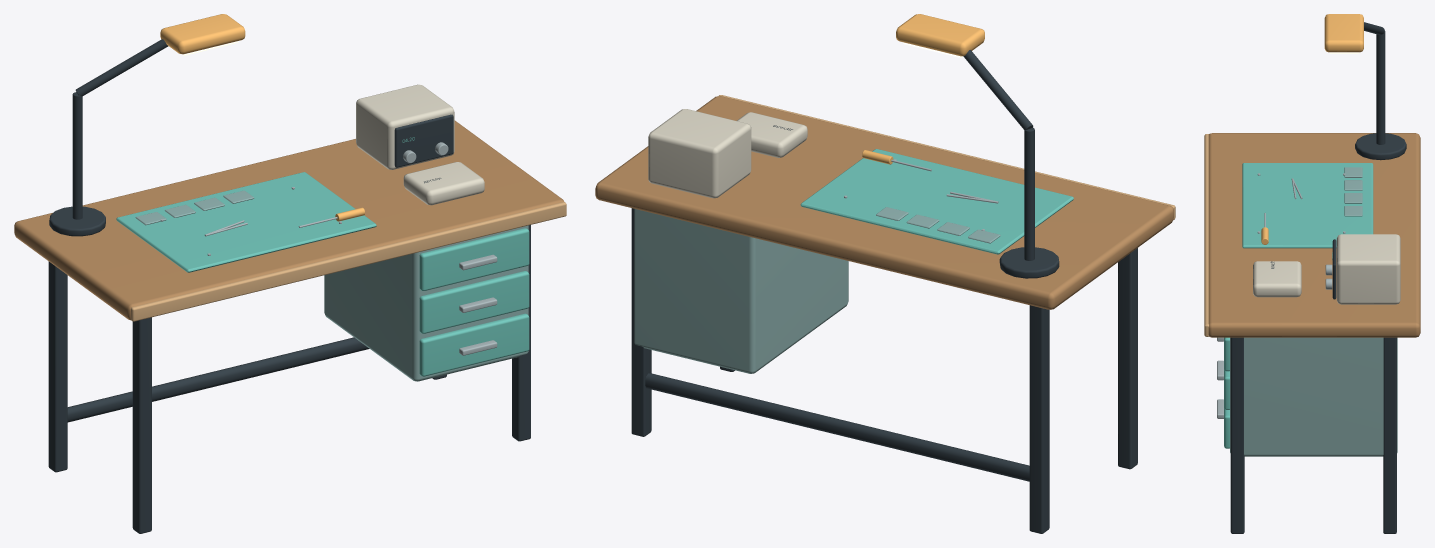
File: repair_workbench.glb
3 views of the same model, side by side, from view 1: azimuth 30°, elevation 25°; view 2: azimuth 150°, elevation 25°; view 3: azimuth 270°, elevation 25° (orthographic). The views are drawn at different scales.
Parts seen in each view (by area): view 1: Worktop, Silicone_repair_mat, Drawer_cabinet, Front_edge, Power_supply, Rear_crossbar, Steel_leg, Steel_leg.001, Drawer_front, Drawer_front.001, Drawer_front.002, Parts_box (+6 smaller); view 2: Worktop, Drawer_cabinet, Silicone_repair_mat, Power_supply, Rear_crossbar, Steel_leg.001, Steel_leg, Lamp_head, Steel_leg.003, Parts_box, Lamp_stem, Lamp_base (+2 smaller); view 3: Worktop, Drawer_cabinet, Silicone_repair_mat, Power_supply, Steel_leg.002, Steel_leg.003, Parts_box, Lamp_head, Lamp_stem, Lamp_base, Front_edge, Power_supply_face.
Boxes of the visible parts, x1,y1,x2,y2 form: Worktop: (14, 120, 564, 320); Silicone_repair_mat: (116, 172, 376, 272); Drawer_cabinet: (324, 225, 528, 381); Front_edge: (130, 202, 566, 321); Power_supply: (356, 84, 454, 169); Rear_crossbar: (67, 337, 369, 422); Steel_leg: (132, 317, 151, 533); Steel_leg.001: (48, 261, 67, 472); Drawer_front: (419, 313, 529, 376); Drawer_front.001: (419, 271, 529, 333); Drawer_front.002: (419, 228, 529, 290); Parts_box: (403, 162, 484, 205); Worktop: (595, 96, 1173, 309); Drawer_cabinet: (634, 209, 848, 373); Silicone_repair_mat: (800, 149, 1073, 254); Power_supply: (648, 109, 751, 198); Rear_crossbar: (645, 373, 1029, 481); Steel_leg.001: (1029, 305, 1049, 533); Steel_leg: (1118, 248, 1137, 469); Lamp_head: (896, 14, 984, 56); Steel_leg.003: (631, 208, 651, 436); Parts_box: (737, 112, 807, 157); Lamp_stem: (1024, 127, 1034, 260); Lamp_base: (999, 247, 1059, 278); Worktop: (1208, 133, 1420, 337); Drawer_cabinet: (1230, 337, 1397, 456); Silicone_repair_mat: (1242, 163, 1373, 248); Power_supply: (1336, 234, 1400, 304); Steel_leg.002: (1230, 337, 1244, 533); Steel_leg.003: (1383, 337, 1396, 533); Parts_box: (1253, 261, 1301, 297); Lamp_head: (1324, 14, 1363, 52); Lamp_stem: (1376, 30, 1385, 144); Lamp_base: (1355, 133, 1406, 160); Front_edge: (1204, 134, 1208, 336); Power_supply_face: (1332, 239, 1336, 299).
Bounding box in the file's own units: 1.5 × 1.41 × 0.709.
